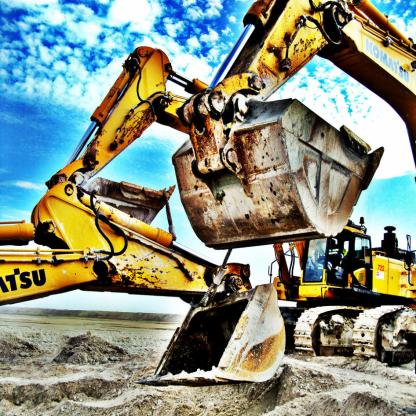excavator: (12, 0, 416, 392)
